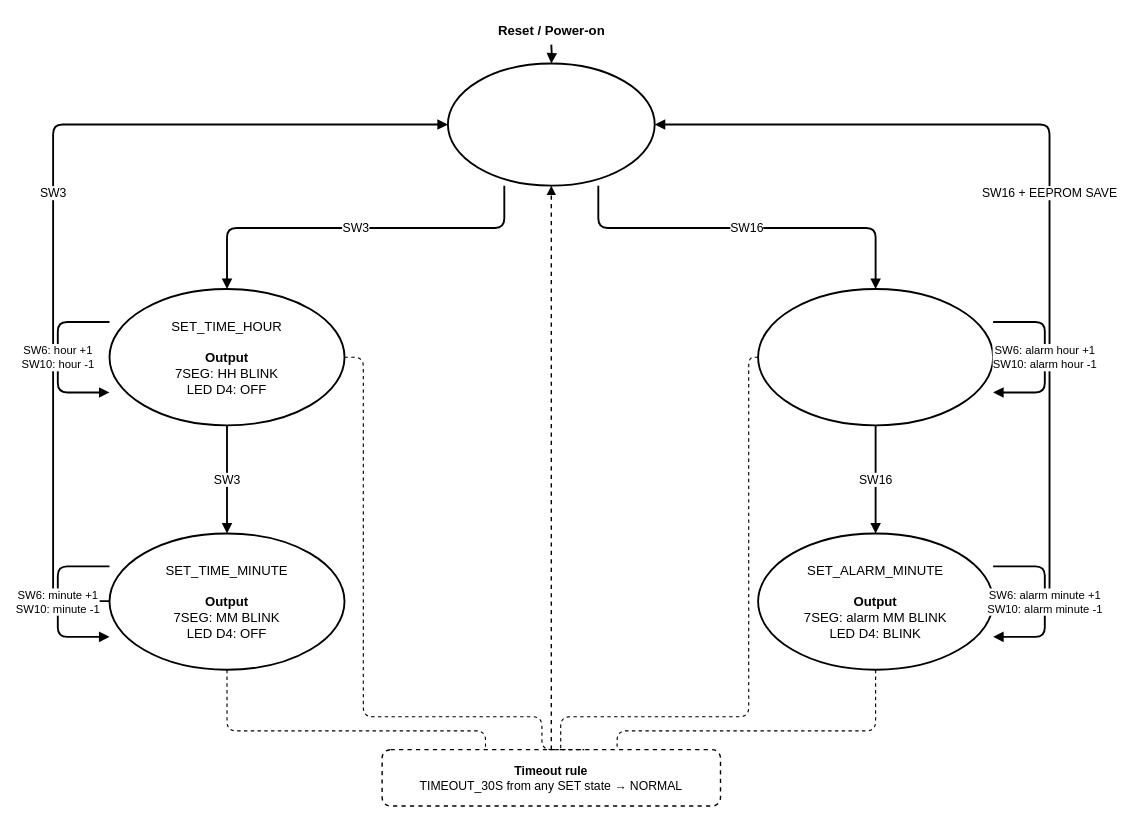
Image size: 1134x823. Some labels were removed from this diagram. Each missing label, with the centre of its shape:
NORMAL Output 7SEG: normal HH.MM LED D4: OFF: point (550, 124)
SET_ALARM_HOUR Output 7SEG: alarm HH BLINK LED D4: BLINK: point (875, 357)
